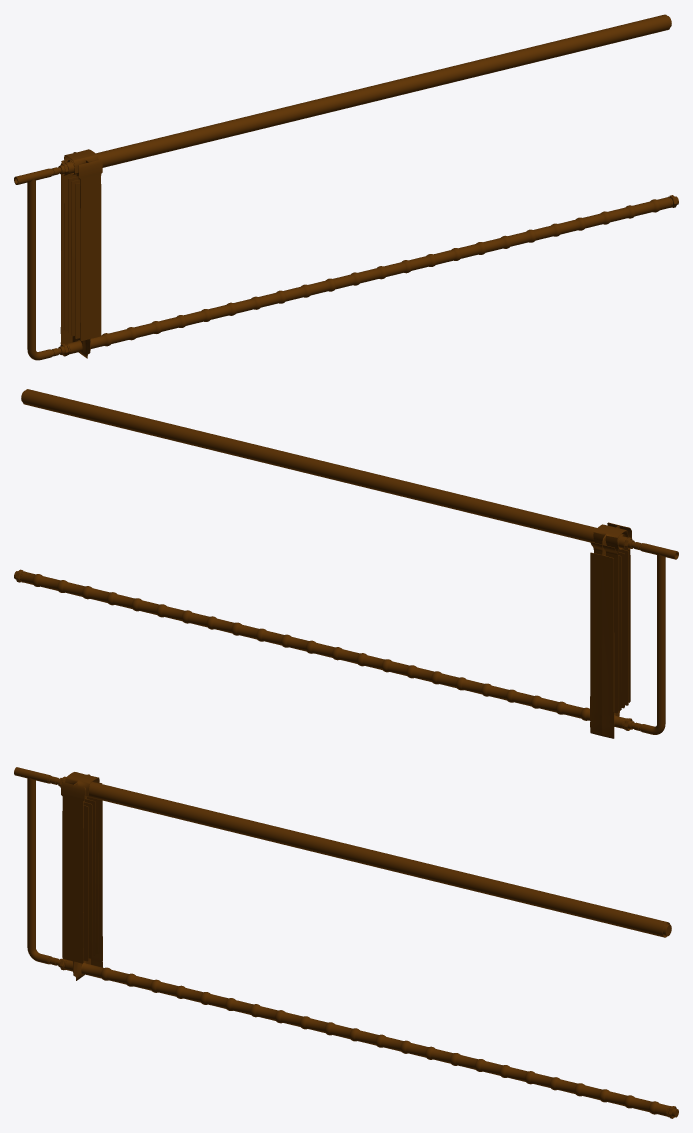
The model's file is Radiators_for_SP3.FBX.
The picture shows the model from 3 angles, top to bottom: view 1: azimuth 30°, elevation 25°; view 2: azimuth 150°, elevation 25°; view 3: azimuth 330°, elevation 25°; orthographic projection.
Visible parts, largest first — view 1: PipeSystem_Un, Radiator001_low; view 2: PipeSystem_Un, Radiator001_low; view 3: PipeSystem_Un, Radiator001_low.
Part boxes in pixels (bbox=[...]): PipeSystem_Un: bbox=[14, 14, 678, 360]; Radiator001_low: bbox=[60, 149, 102, 358]; PipeSystem_Un: bbox=[14, 389, 678, 734]; Radiator001_low: bbox=[590, 522, 631, 738]; PipeSystem_Un: bbox=[14, 767, 678, 1118]; Radiator001_low: bbox=[61, 772, 102, 980].
Size of the model in its own units: 259 by 74.96 by 12.41.
